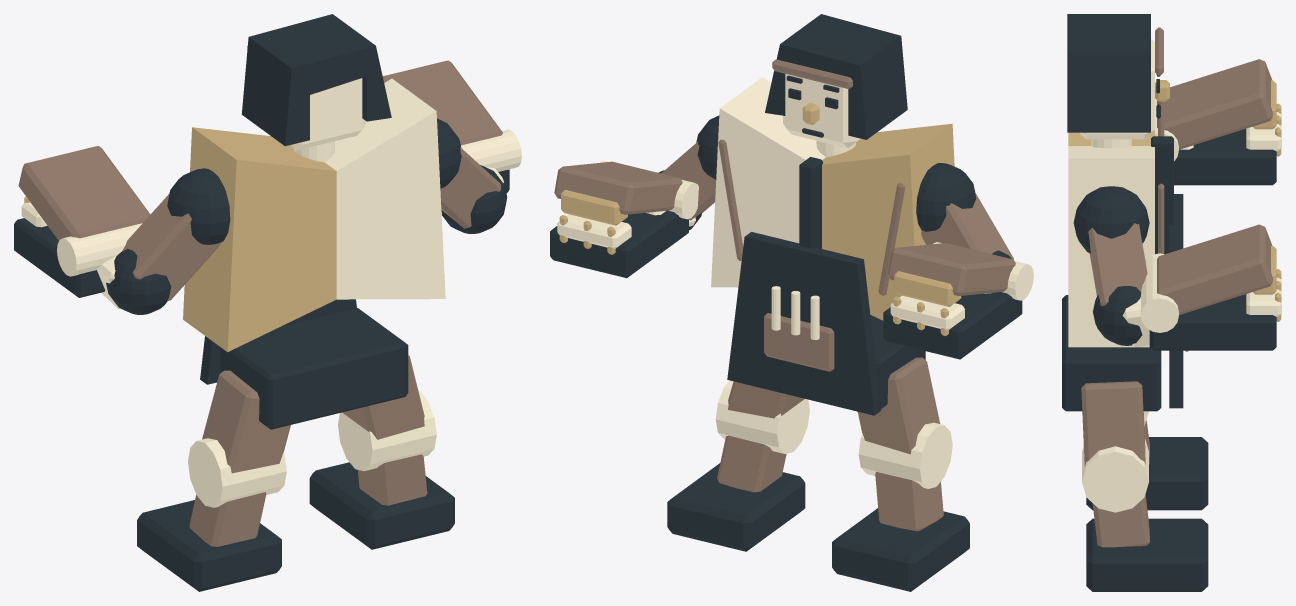
3 views of the same model, side by side, from view 1: azimuth 30°, elevation 25°; view 2: azimuth 150°, elevation 25°; view 3: azimuth 270°, elevation 25° (orthographic). The views are drawn at different scales.
Visible parts, largest first — view 1: folio_left, folio_right, worker_pelvis, worker_bob, left_stapler_top, left_shoe, right_shoe, left_thigh, left_upper_arm, right_stapler_top, left_knee_pin, right_knee_pin (+13 smaller); view 2: work_apron, folio_left, folio_right, worker_bob, right_shoe, left_shoe, left_stitch_base, right_stitch_base, right_stapler_top, left_stapler_top, left_thigh, left_knee_pin (+21 smaller); view 3: worker_bob, folio_right, right_shoe, right_stapler_top, left_stapler_top, worker_pelvis, right_stitch_base, left_shoe, left_stitch_base, right_thigh, right_knee_pin, right_upper_arm (+16 smaller).
Boxes of the visible parts, <box> form: folio_left: <box>183,127,336,352</box>; folio_right: <box>325,78,445,299</box>; worker_pelvis: <box>220,308,408,429</box>; worker_bob: <box>241,14,391,146</box>; left_stapler_top: <box>18,146,150,240</box>; left_shoe: <box>137,500,281,591</box>; right_shoe: <box>309,462,454,549</box>; left_thigh: <box>202,370,290,473</box>; left_upper_arm: <box>122,193,221,300</box>; right_stapler_top: <box>382,60,502,145</box>; left_knee_pin: <box>188,438,286,507</box>; right_knee_pin: <box>338,390,436,471</box>; work_apron: <box>727,232,881,415</box>; folio_left: <box>822,123,954,320</box>; folio_right: <box>711,77,825,287</box>; worker_bob: <box>765,14,907,139</box>; right_shoe: <box>667,463,805,551</box>; left_shoe: <box>832,508,969,591</box>; left_stitch_base: <box>883,292,1022,359</box>; right_stitch_base: <box>550,210,688,278</box>; right_stapler_top: <box>554,161,682,214</box>; left_stapler_top: <box>887,243,1015,295</box>; left_thigh: <box>857,357,940,454</box>; left_knee_pin: <box>858,422,952,488</box>; worker_bob: <box>1067,14,1150,132</box>; folio_right: <box>1068,146,1154,347</box>; right_shoe: <box>1086,518,1208,591</box>; right_stapler_top: <box>1157,224,1272,314</box>; left_stapler_top: <box>1157,59,1272,149</box>; worker_pelvis: <box>1062,295,1161,411</box>; right_stitch_base: <box>1149,294,1276,350</box>; left_shoe: <box>1086,437,1208,510</box>; left_stitch_base: <box>1174,129,1276,185</box>; right_thigh: <box>1081,381,1145,466</box>; right_knee_pin: <box>1082,439,1148,512</box>; right_upper_arm: <box>1088,223,1147,305</box>.
Size of the model in its own units: 1.96 by 2.17 by 0.865.
